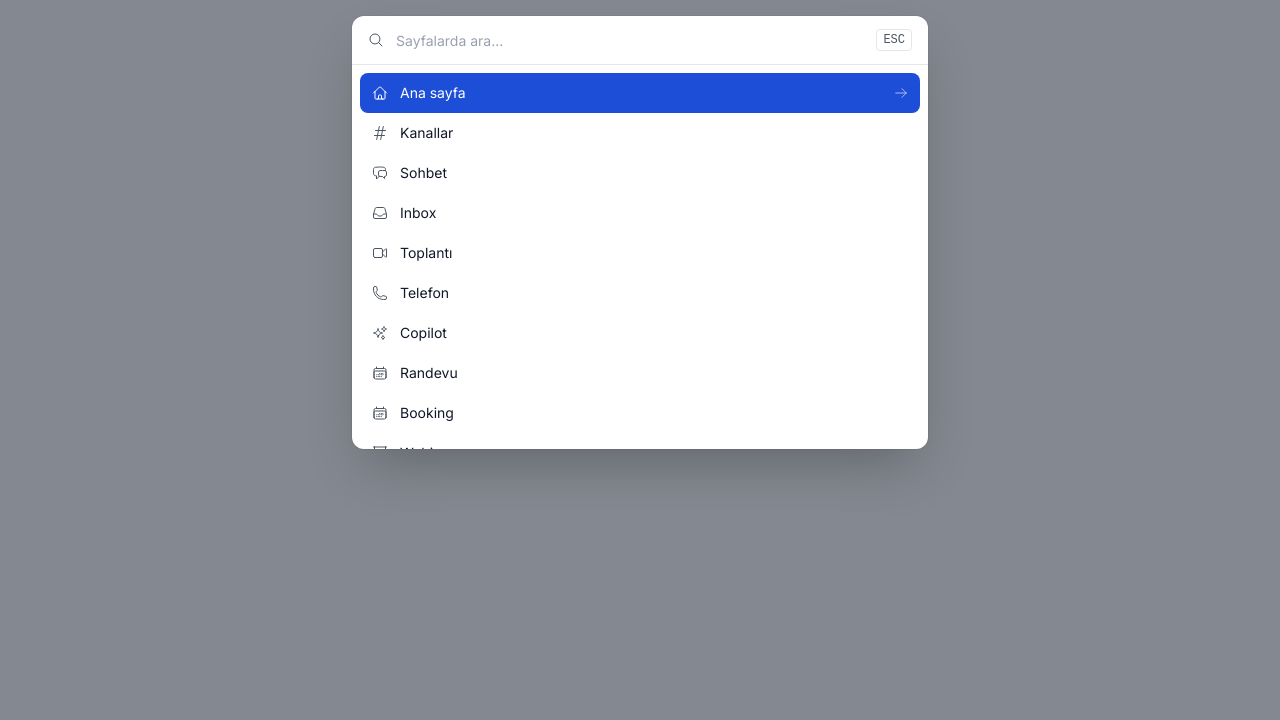
Scenario: CommandPalette › sorguya göre filtreler
In the field named "Sayfa ara": (630, 40) [396,16,864,64], type "ayar"
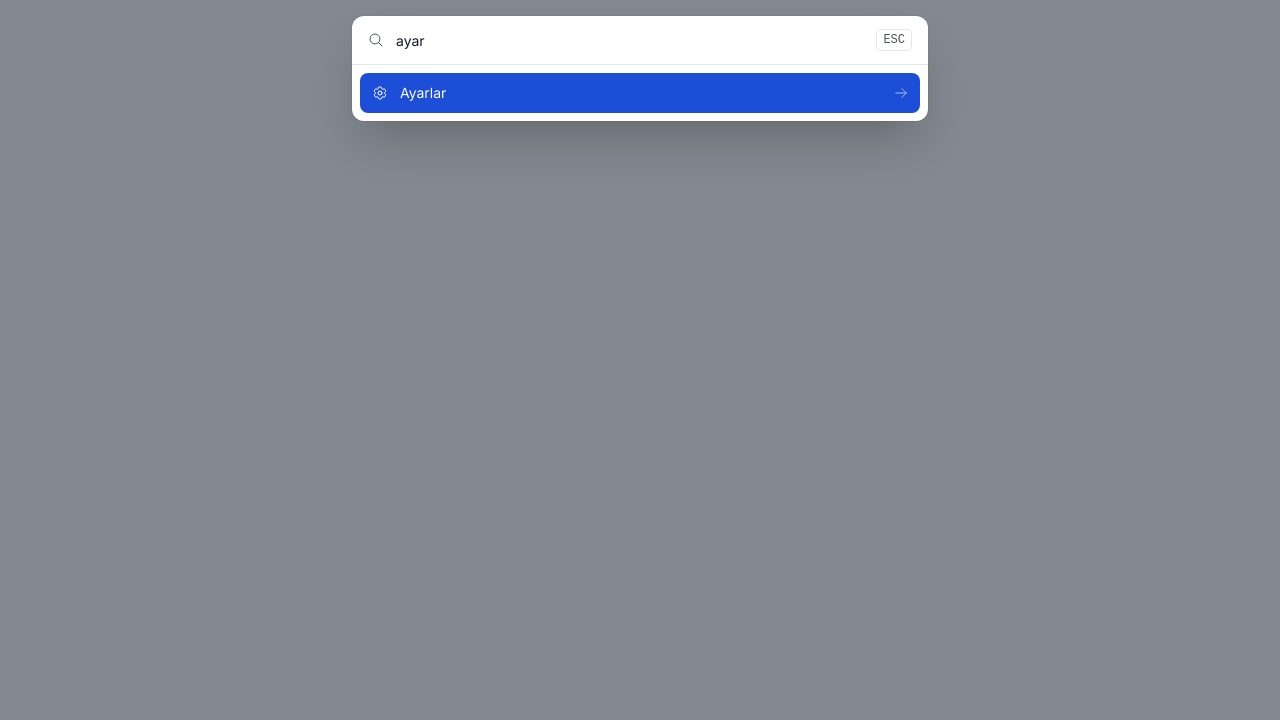
Now the option "Ayarlar" is shown, box [360,73,920,113]
Now the option "Ana sayfa" is gone
